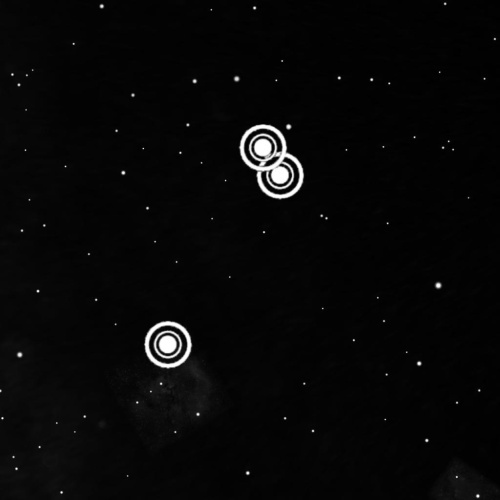canis_minor: (137, 117, 312, 378)
